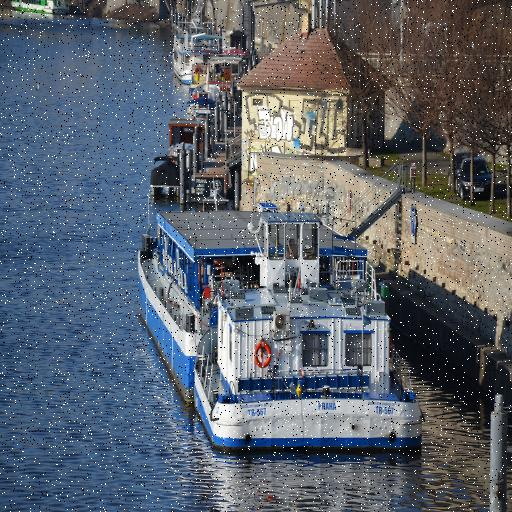tugboat: (135, 198, 430, 466)
